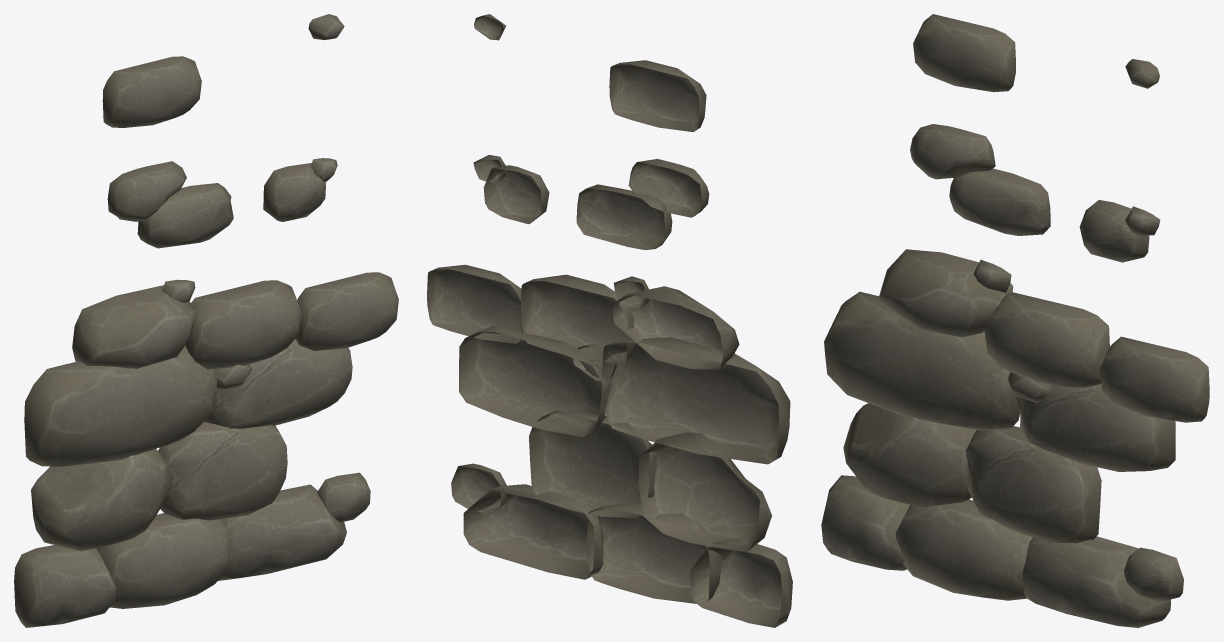
File: MSH_fwOF_Ruins_Wall_Bricks_03.fbx
3 views of the same model, side by side, from view 1: azimuth 30°, elevation 25°; view 2: azimuth 150°, elevation 25°; view 3: azimuth 330°, elevation 25° (orthographic). The views are drawn at different scales.
Visible parts, largest first — view 1: MSH_fwOF_Ruins_Wall_Bricks_03; view 2: MSH_fwOF_Ruins_Wall_Bricks_03; view 3: MSH_fwOF_Ruins_Wall_Bricks_03.
Boxes of the visible parts, x1,y1,x2,y2 form: MSH_fwOF_Ruins_Wall_Bricks_03: (14,14,398,627); MSH_fwOF_Ruins_Wall_Bricks_03: (427,14,792,627); MSH_fwOF_Ruins_Wall_Bricks_03: (821,14,1209,627).
Size of the model in its own units: 2.42 by 3.41 by 0.3327.
